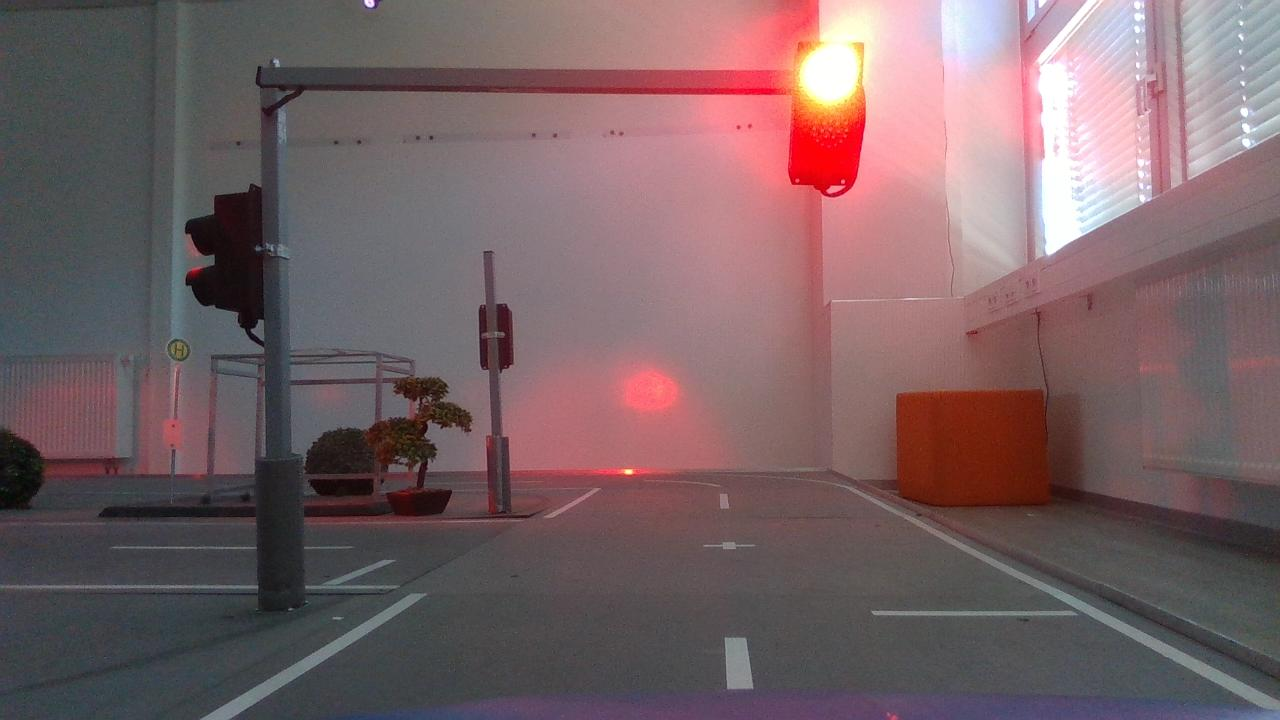traffic_light_red: (778, 24, 881, 216)
